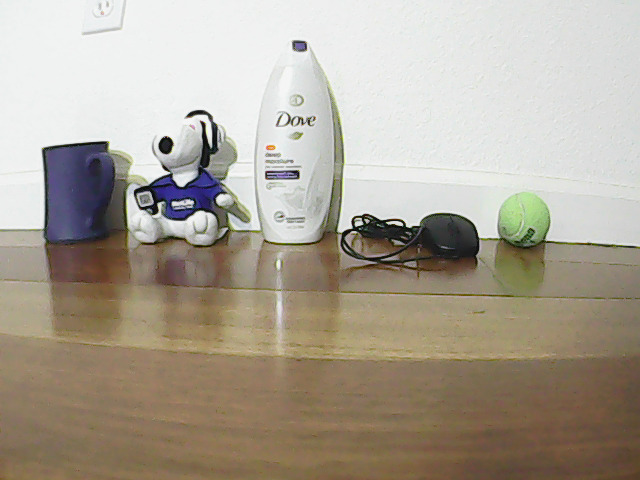ball: (494, 187, 560, 251)
mouse: (412, 200, 481, 260)
mug: (40, 141, 115, 243)
snoopy: (124, 105, 240, 245)
soap: (251, 33, 334, 245)
